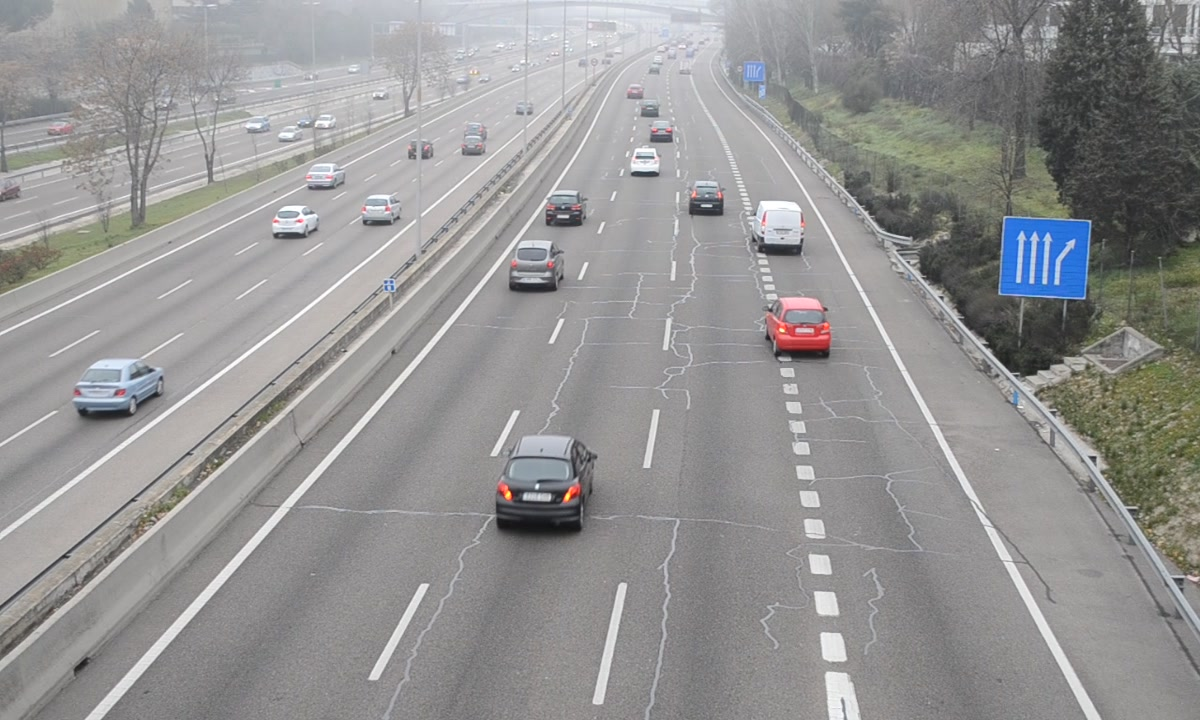car: (494, 436, 594, 530), (768, 296, 833, 352), (508, 239, 562, 286), (544, 191, 587, 224), (688, 180, 726, 215), (628, 143, 662, 175), (650, 117, 675, 142)
van: (756, 200, 806, 249)
